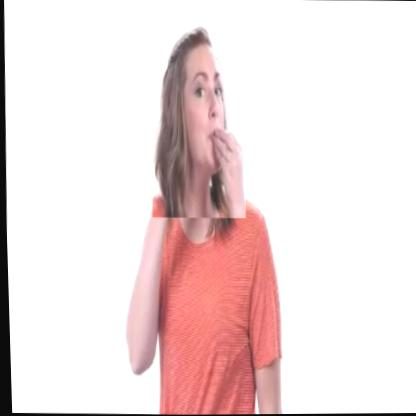Food: (147, 24, 247, 219)
